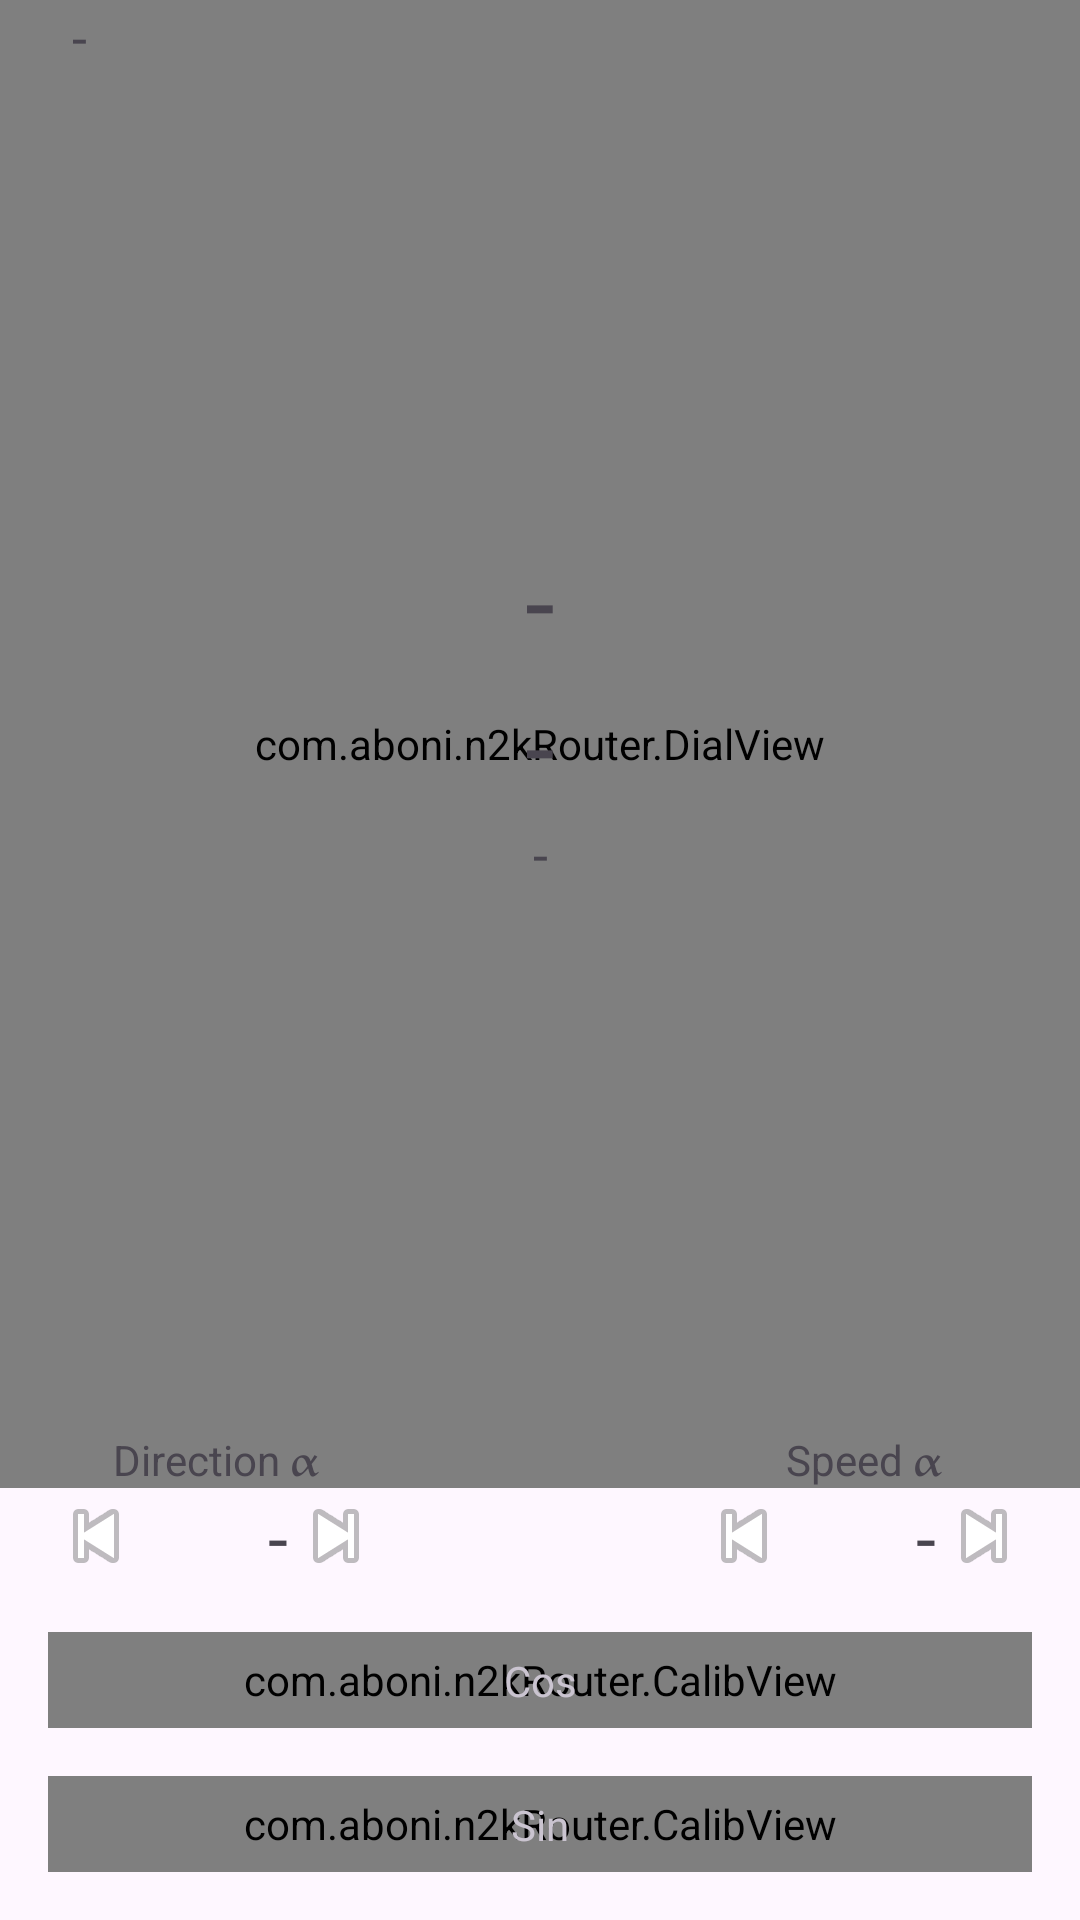

Named icons in this screenshot (1080px×1920px) and their bounding boxes, (x1, y1, x2, y2):
next: (313, 1509, 359, 1563), (961, 1509, 1007, 1563)
previous: (73, 1509, 119, 1563), (721, 1509, 767, 1563)
